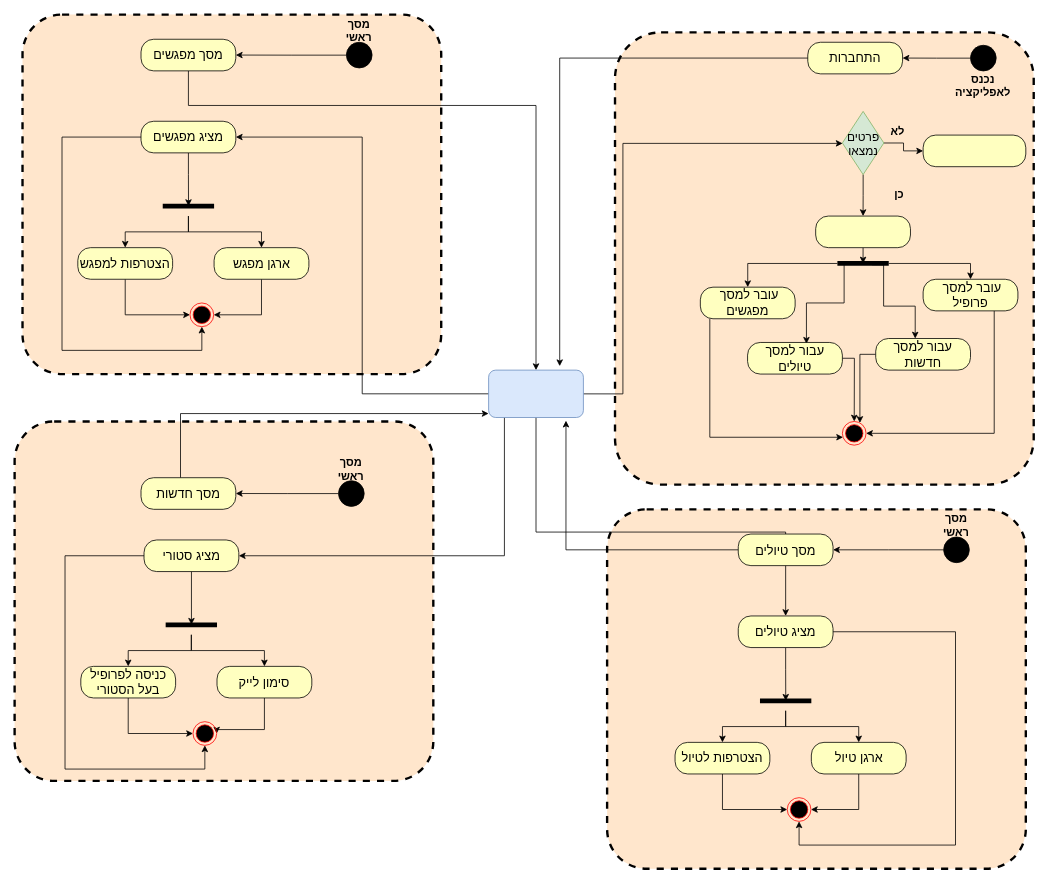
Some shapes in this 1048 by 884 pixel diagram are drawn without their labels. The centre of each missing label's shape, as x and y in pixels:
הרשמה: (x=974, y=150)
מאגר מידע: (x=535, y=393)
עובר למסך ראשי: (x=862, y=231)
